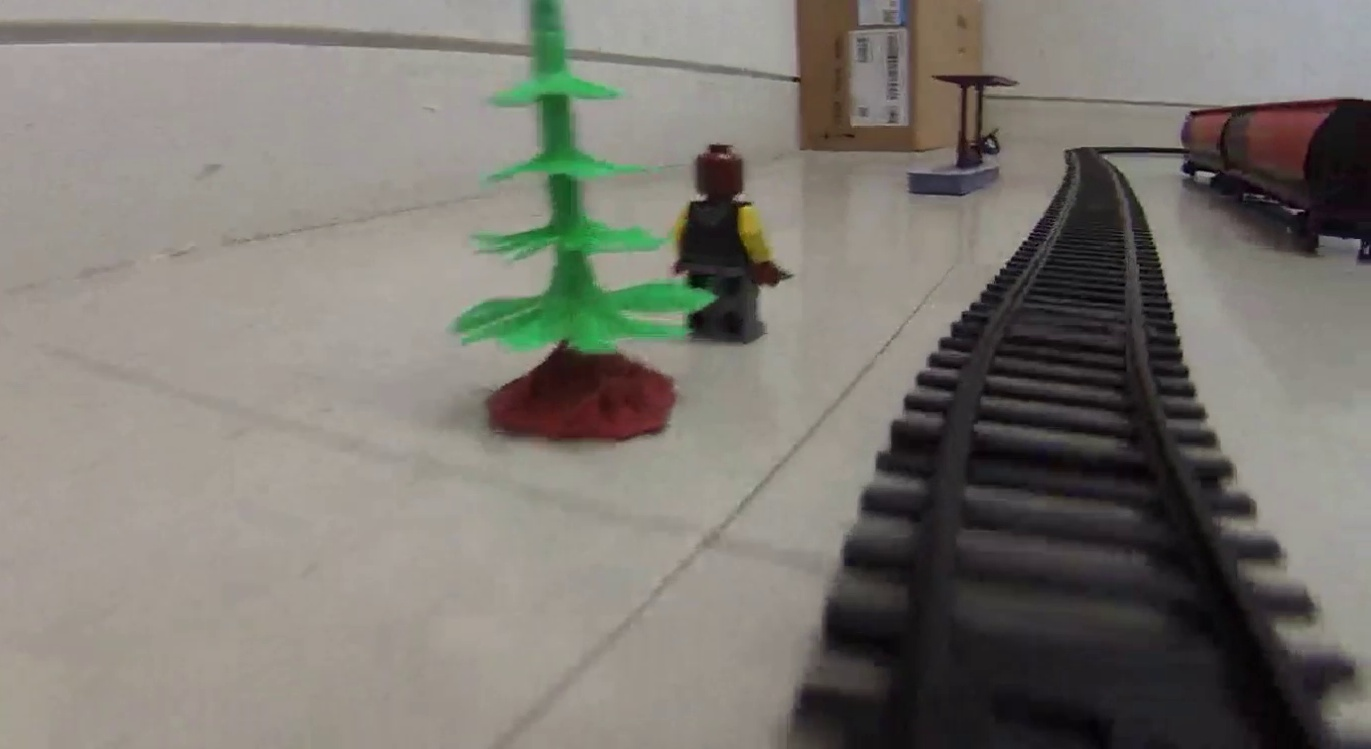people: (678, 141, 780, 344)
tree: (445, 3, 717, 443)
